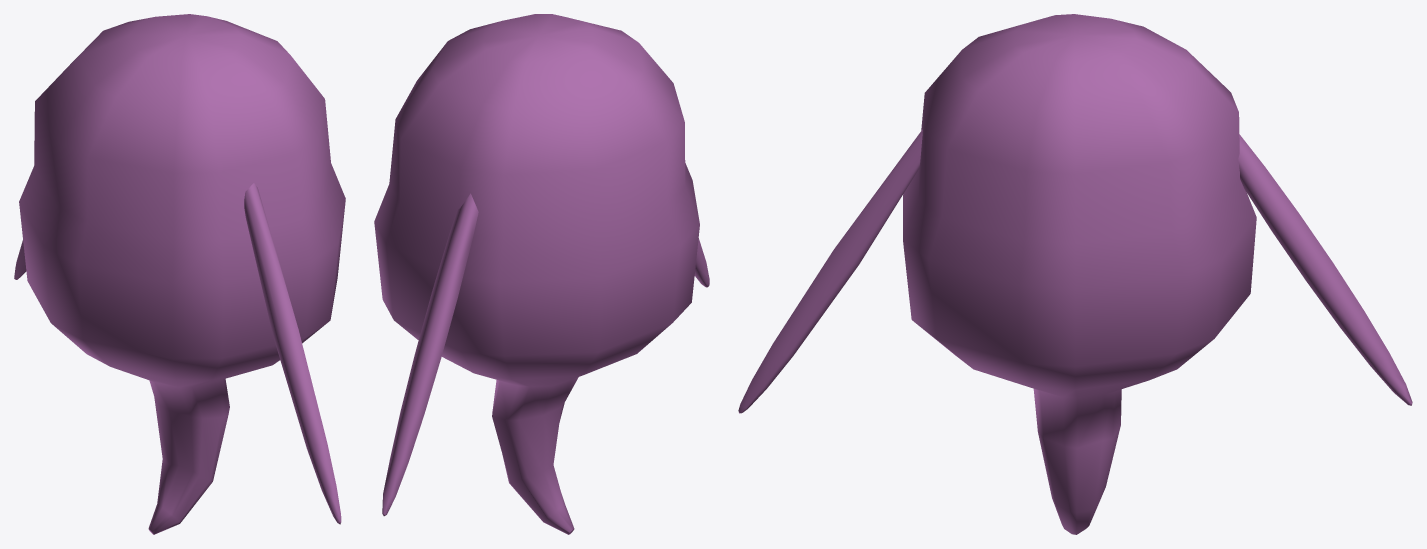
File: ghost.fbx
The picture shows the model from 3 angles, left to right: view 1: azimuth 30°, elevation 25°; view 2: azimuth 150°, elevation 25°; view 3: azimuth 270°, elevation 25°; orthographic projection. The views are drawn at different scales.
Parts seen in each view (by area): view 1: ghost; view 2: ghost; view 3: ghost.
Part boxes in pixels (x1,y1,x2,y2): ghost: (14, 14, 345, 534); ghost: (374, 14, 709, 534); ghost: (738, 14, 1412, 534).
Size of the model in its own units: 0.3 by 0.5 by 0.5998.
